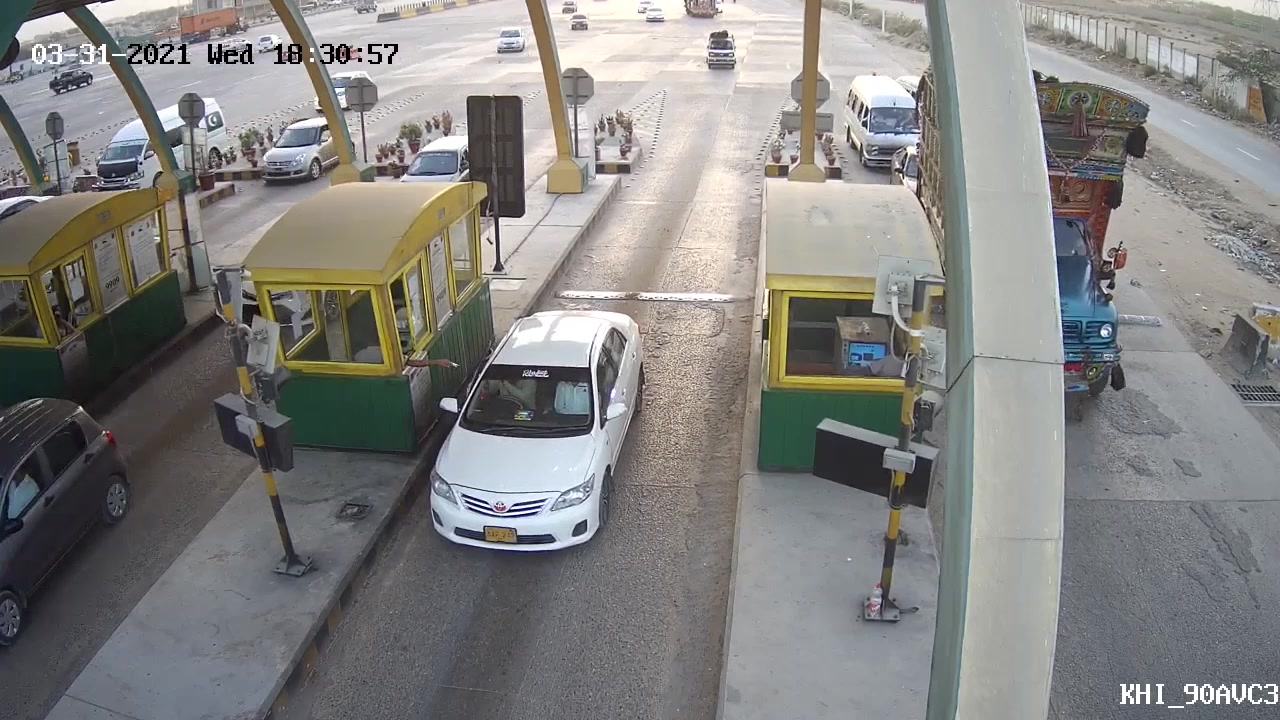F1: (423, 292, 650, 556)
